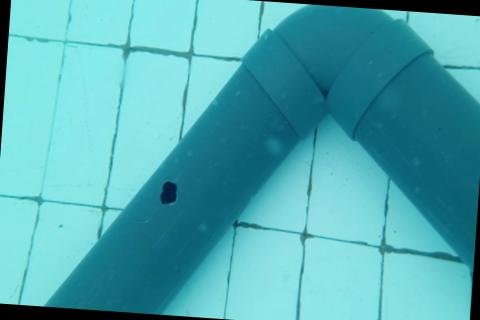kebocoran: (158, 177, 180, 206)
